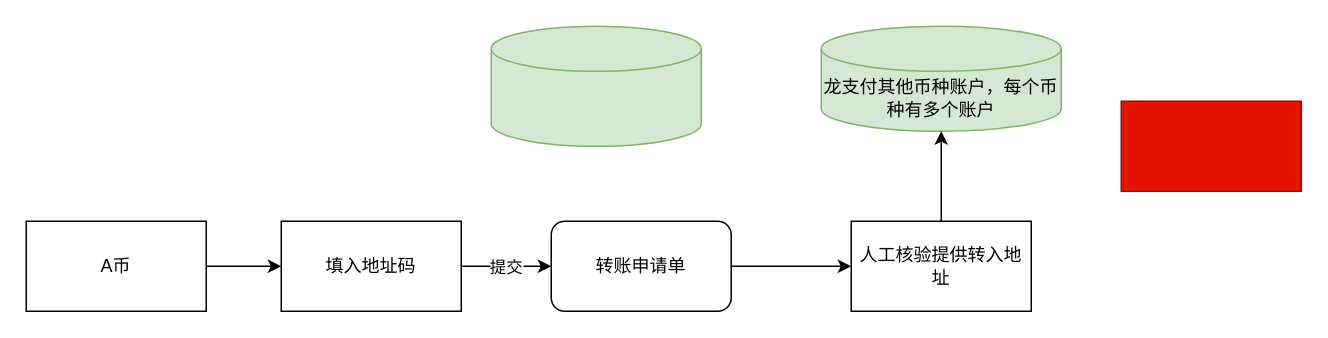
Image size: 1328x338. Some labels were removed from this diagram. The shapes that lost their labels are listed below. From the top down, each one's centre as x and y in pixels, then its label:
point (595, 85): 龙支付区块链
point (1210, 145): 查询交易记录？？
